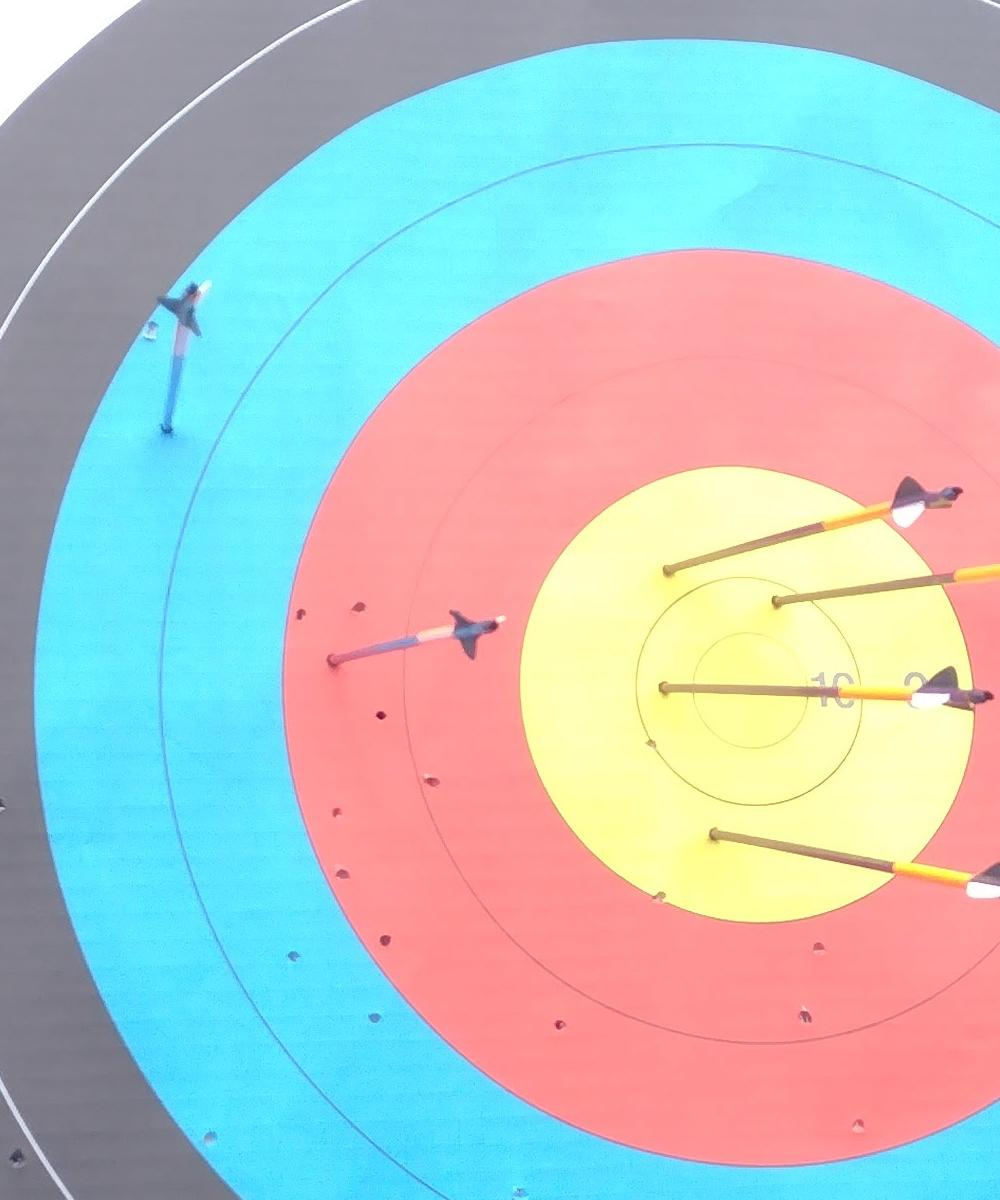10-Ring: (633, 579, 863, 810)
9-Ring: (523, 475, 967, 925)
Arrow: (663, 462, 967, 609), (660, 666, 993, 718), (330, 608, 508, 665), (160, 286, 201, 430)
